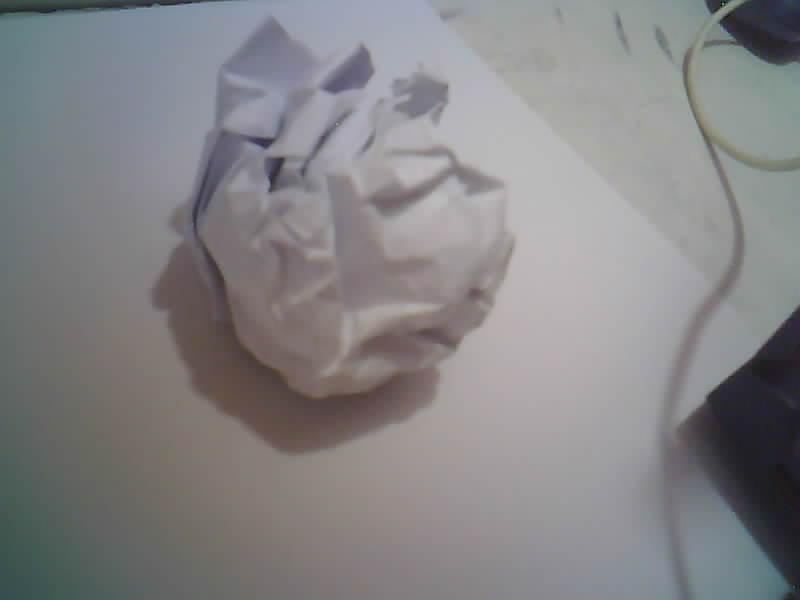biodegradable: (189, 18, 513, 397)
